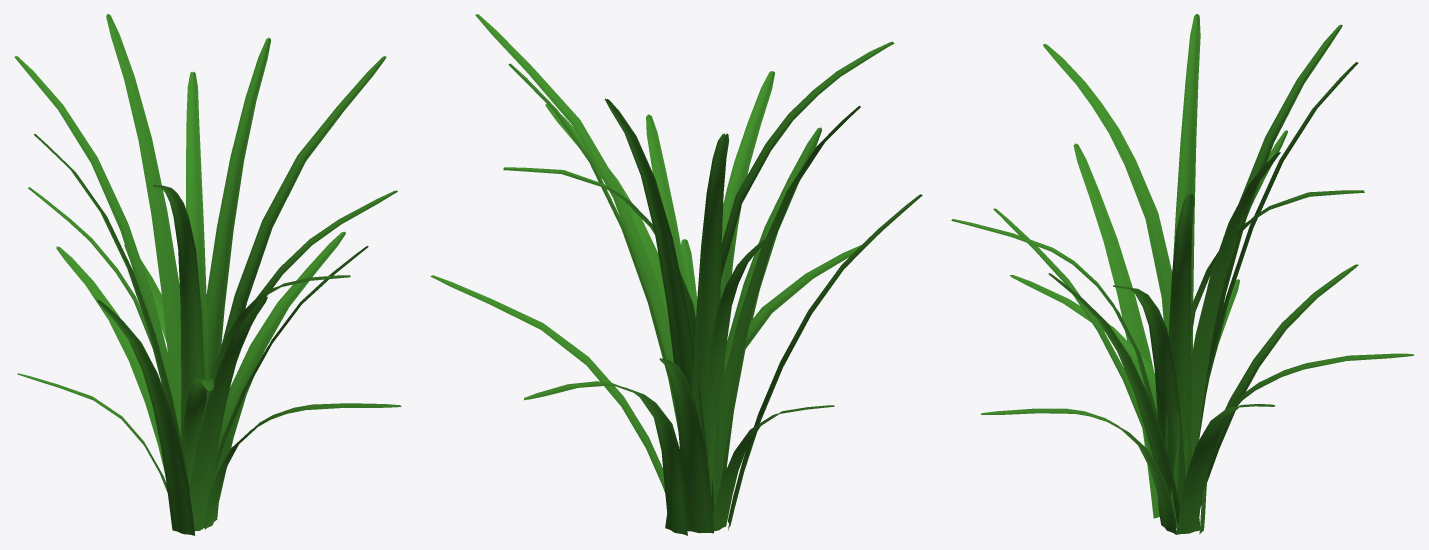
The model's file is plant_1_2.fbx.
3 views of the same model, side by side, from view 1: azimuth 30°, elevation 25°; view 2: azimuth 150°, elevation 25°; view 3: azimuth 270°, elevation 25° (orthographic). The views are drawn at different scales.
Parts seen in each view (by area): view 1: plant; view 2: plant; view 3: plant.
Boxes of the visible parts, left/top/right/bottom form: plant: left=14, top=14, right=401, bottom=535; plant: left=430, top=14, right=922, bottom=535; plant: left=951, top=14, right=1414, bottom=534.
Size of the model in its own units: 1195 by 1460 by 1327.
